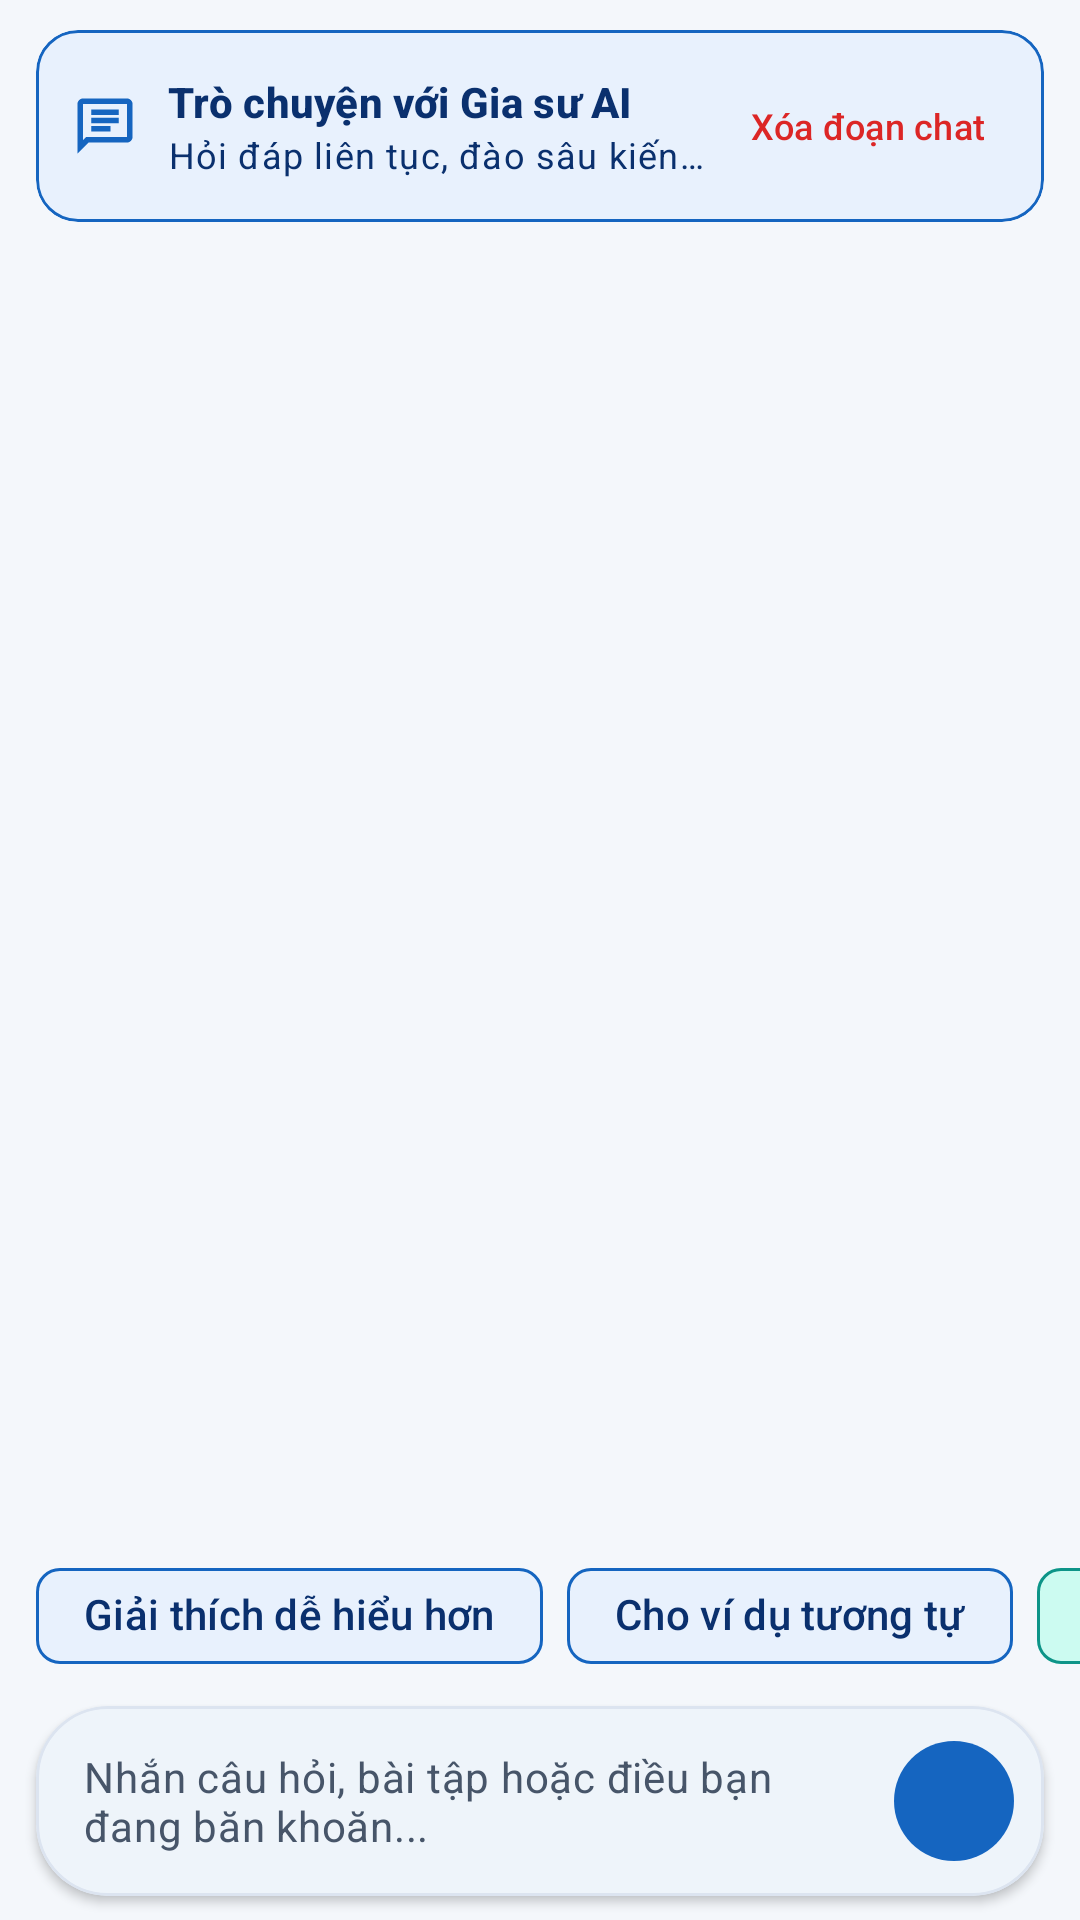

Point at icon controls on the screen. Image size 1080*1920, points as (x,y).
chat: (105,126)
